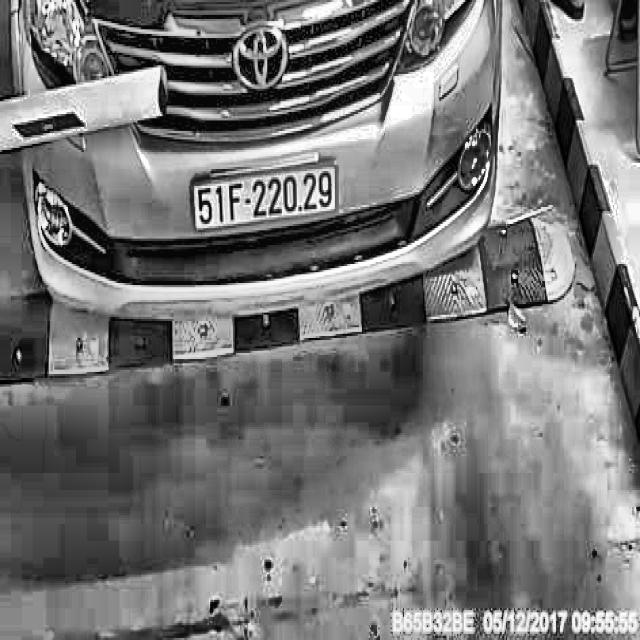plate: (188, 154, 342, 235)
